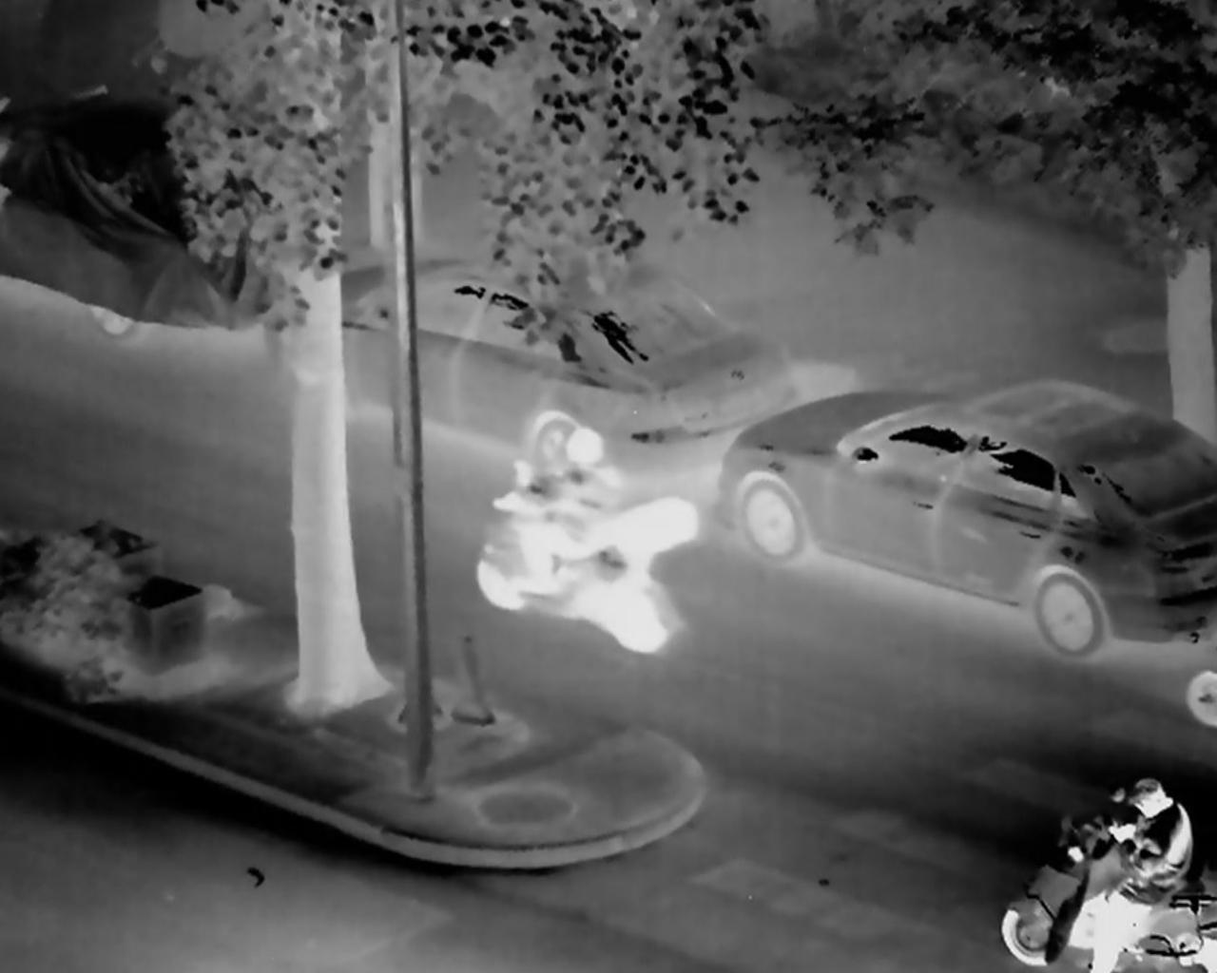person: (506, 429, 643, 634)
